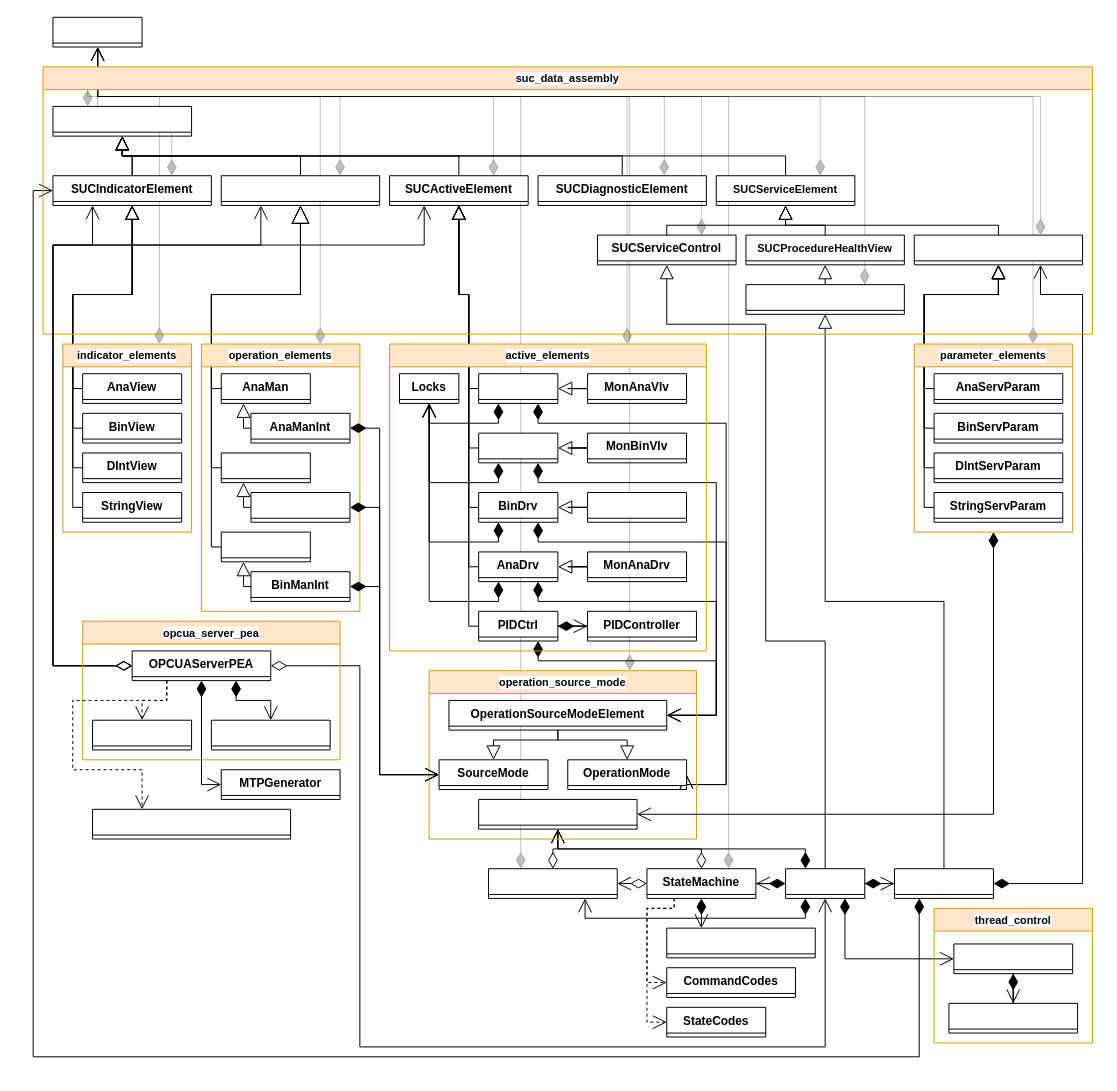
This 1117x1091 diagram has some shape labels left out. The shapes that lost their labels are listed below. From the top down, each one's centre as x and y in pixels, then its label:
At (x=97, y=31): "Attribute".
At (x=122, y=120): "SUCDataAssembly".
At (x=300, y=190): "SUCOperationElement".
At (x=998, y=249): "SUCParameterElement".
At (x=824, y=299): "SUCServiceProcedure".
At (x=518, y=388): "AnaVlv".
At (x=265, y=467): "DIntMan".
At (x=518, y=447): "BinVlv".
At (x=300, y=507): "DIntManInt".
At (x=637, y=507): "MonBinDrv".
At (x=265, y=546): "BinMan".
At (x=142, y=734): "Marshalling".
At (x=270, y=734): "SubscriptionList".
At (x=191, y=823): "OPCUACommunicationObject".
At (x=557, y=813): "OperationSourceMode".
At (x=552, y=883): "ProcedureControl".
At (x=825, y=883): "Service".
At (x=943, y=883): "Procedure".
At (x=740, y=942): "CommandEnControl".
At (x=1013, y=958): "ThreadControl".
At (x=1013, y=1017): "StoppableThread".
